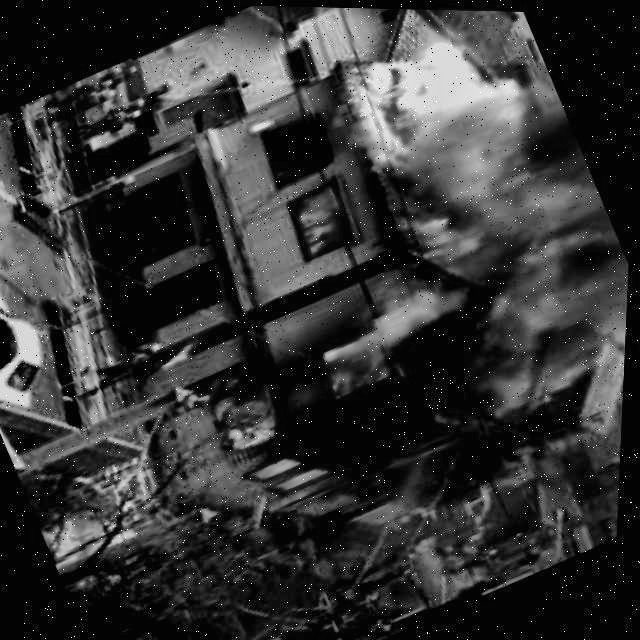Fire: (276, 168, 368, 263), (312, 323, 406, 404), (180, 363, 253, 417), (142, 330, 215, 382), (273, 454, 339, 500), (252, 446, 307, 488)
